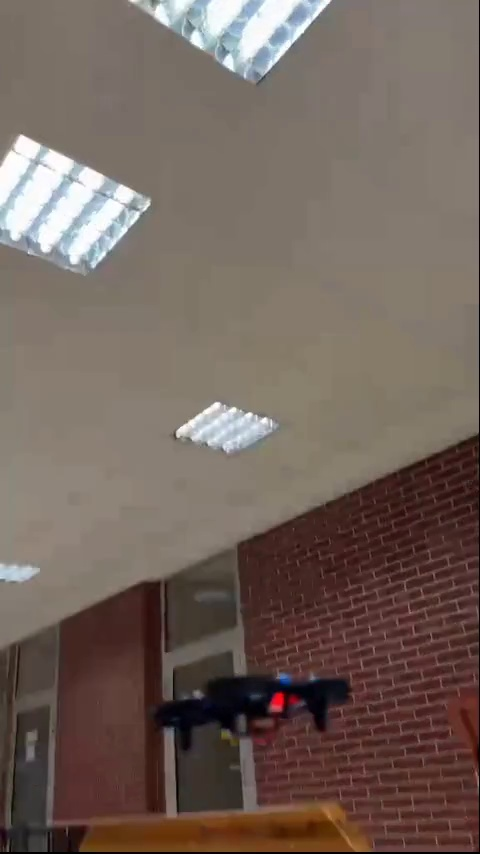drone: (156, 676, 346, 756)
